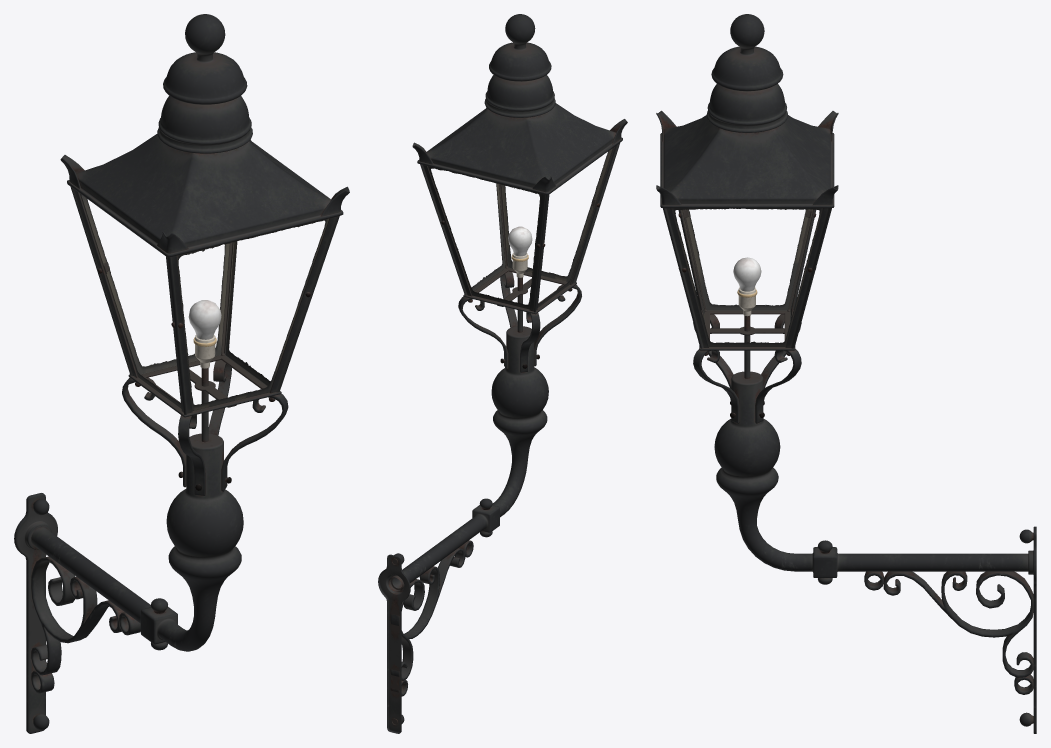
File: street_lamp_02_2k.fbx
The picture shows the model from 3 angles, left to right: view 1: azimuth 30°, elevation 25°; view 2: azimuth 150°, elevation 25°; view 3: azimuth 270°, elevation 25°; orthographic projection. The views are drawn at different scales.
Parts seen in each view (by area): view 1: street_lamp_02; view 2: street_lamp_02; view 3: street_lamp_02.
Boxes of the visible parts, x1,y1,x2,y2 form: street_lamp_02: [14, 14, 349, 733]; street_lamp_02: [378, 14, 627, 733]; street_lamp_02: [656, 14, 1036, 733].
Bounding box in the file's own units: 38.65 × 168 × 80.68.
Materials: 3 (3 with a texture image).
